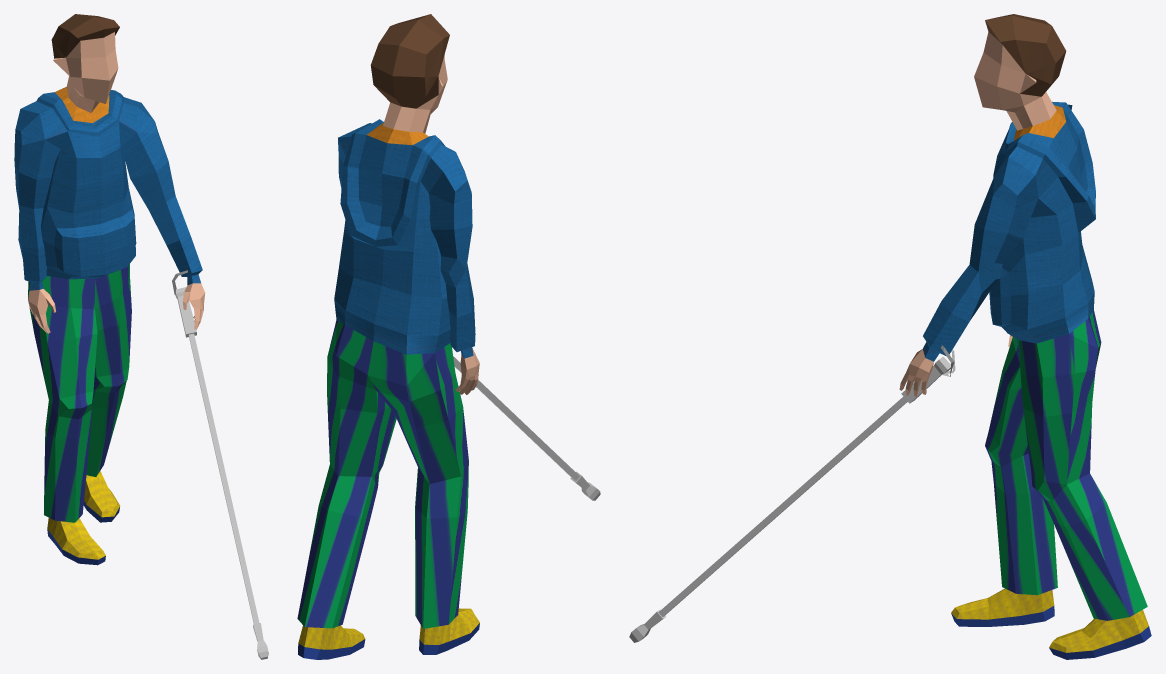
File: Disabled People2 .fbx
3 views of the same model, side by side, from view 1: azimuth 30°, elevation 25°; view 2: azimuth 150°, elevation 25°; view 3: azimuth 270°, elevation 25° (orthographic). The views are drawn at different scales.
Visible parts, largest first — view 1: OfficeManA.020; view 2: OfficeManA.020; view 3: OfficeManA.020.
Part boxes in pixels (box(x1,y1,x2,y2)): OfficeManA.020: box(14, 14, 268, 659); OfficeManA.020: box(297, 14, 600, 659); OfficeManA.020: box(629, 14, 1151, 659).
Size of the model in its own units: 41.57 by 152 by 116.
